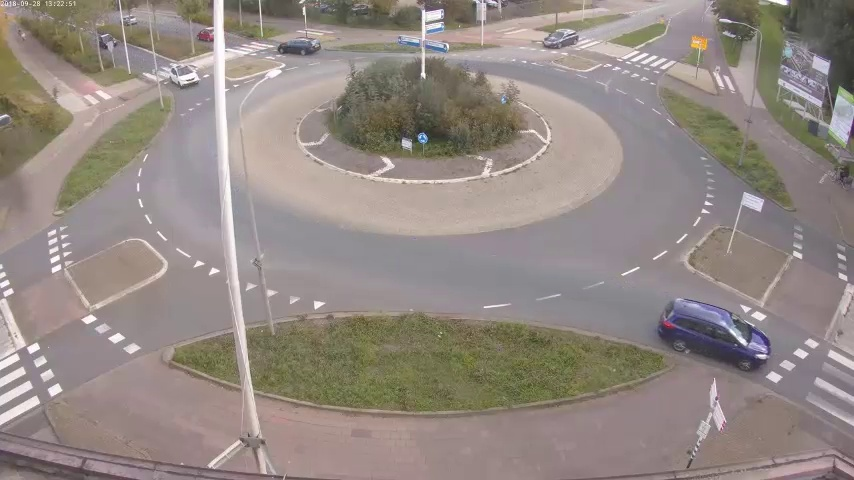car: (659, 292, 770, 372), (280, 32, 317, 57), (545, 26, 577, 50), (167, 64, 197, 88), (197, 24, 216, 41), (119, 12, 138, 26), (99, 29, 114, 46)
